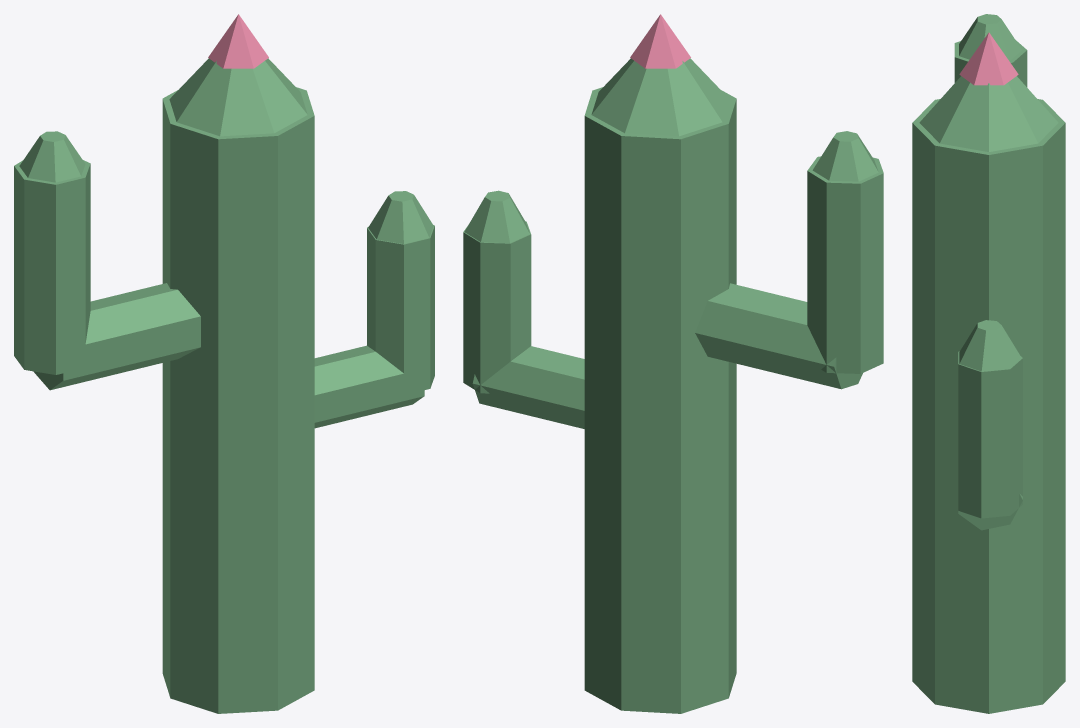
File: cactus.glb
3 views of the same model, side by side, from view 1: azimuth 30°, elevation 25°; view 2: azimuth 150°, elevation 25°; view 3: azimuth 270°, elevation 25° (orthographic). The views are drawn at different scales.
Visible parts, largest first — view 1: cactus; view 2: cactus; view 3: cactus.
Part boxes in pixels (<box>): cactus: <box>14,14,434,713</box>; cactus: <box>463,14,883,713</box>; cactus: <box>912,14,1065,713</box>.
Size of the model in its own units: 1.09 by 1.68 by 0.36.
